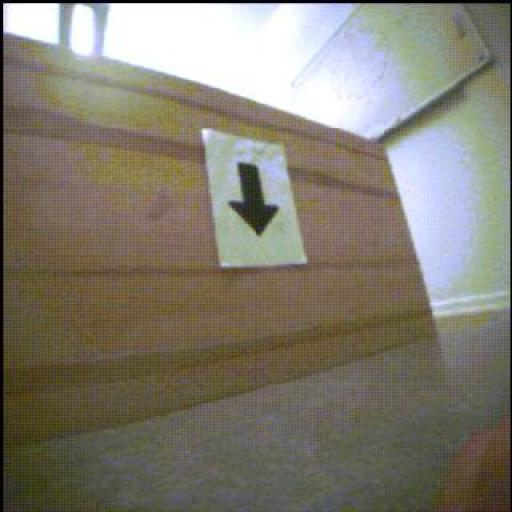arrow: (230, 164, 279, 236)
